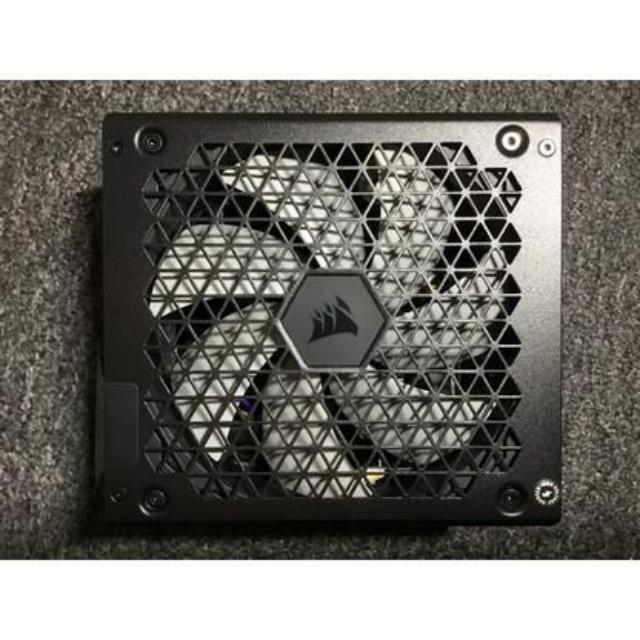PSU: (87, 90, 570, 536)
